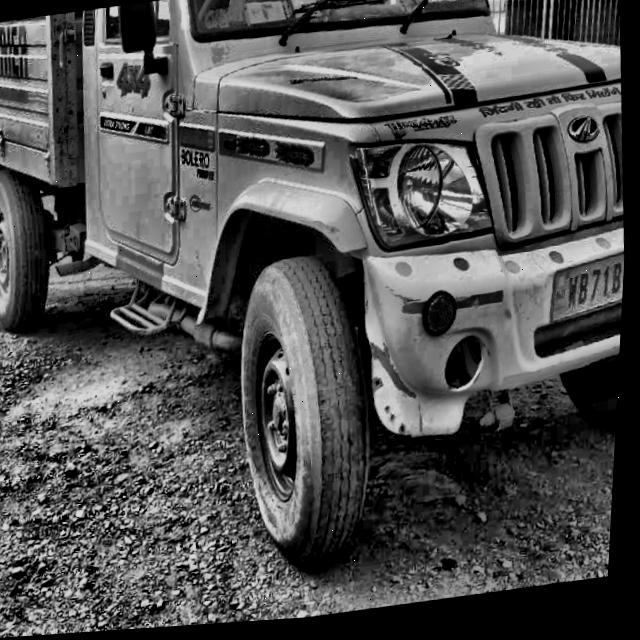light_vehicle: (0, 0, 640, 467)
